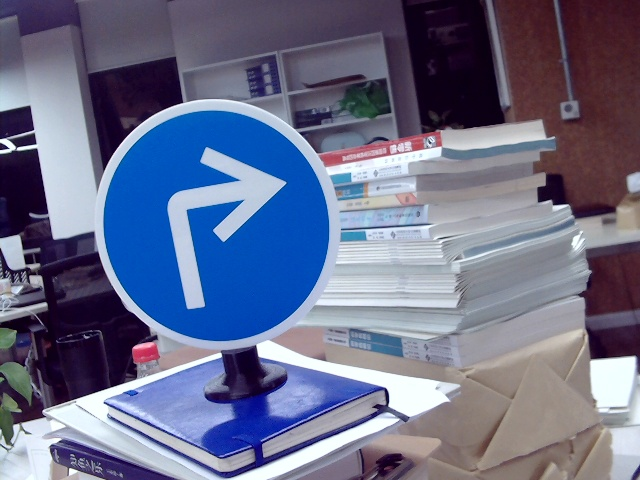turn_right: (156, 145, 284, 310)
